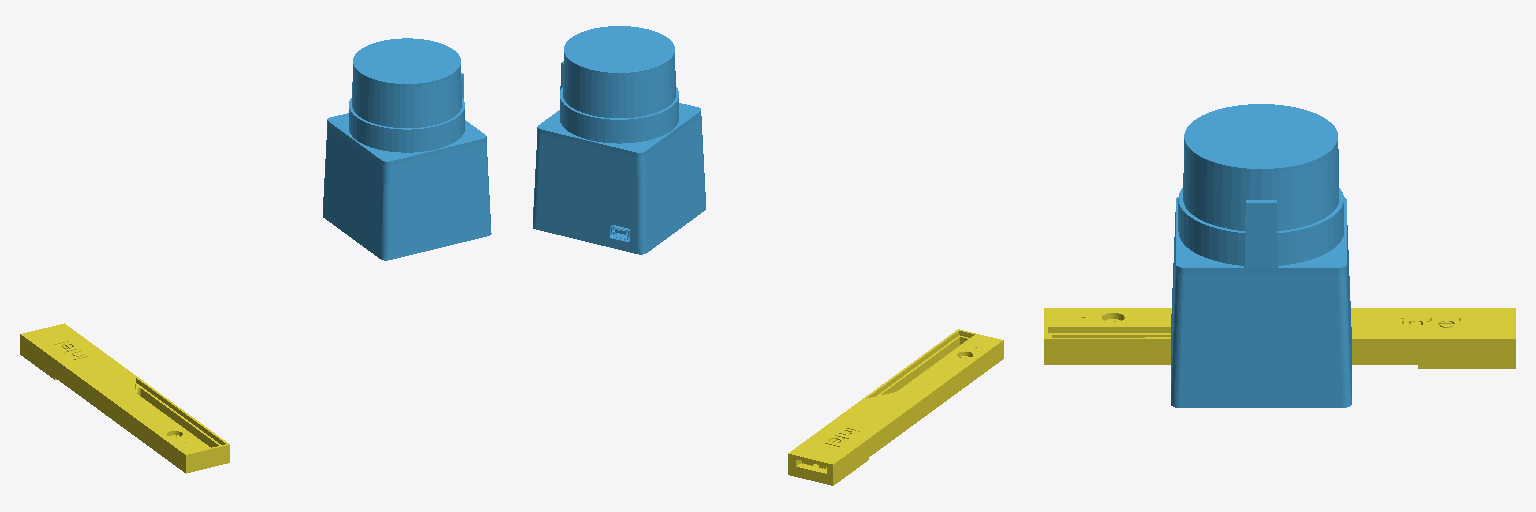
URDF robot description (intelaero):
<?xml version="1.0"?>
<robot name="intelaero">

  <link name="bintel">
    <visual>
      <origin rpy="0.0 0 0" xyz="0 0 0.008"/>
      <geometry>
        <mesh filename="package://bintel_ros/meshes/inteldrone_frame.stl" scale="0.001 0.001 0.001"/>
      </geometry>
    </visual>
  </link>
  
  
  <link name="laser">
	<visual>
      <origin rpy="1.5707  0 1.5707" xyz="0 -0.025 -0.04"/>
      <geometry>
        <mesh filename="package://bintel_ros/meshes/hokuyo_urg04lx.STL" scale="0.001 0.001 0.001"/>
      </geometry>     
    </visual>
  </link>
  
  <joint name="laser_to_bintel" type="fixed">
    <parent link="bintel"/>
    <child link="laser"/>
    <origin rpy="0 0 3.1415" xyz="0.03 0.0 0.07"/>
  </joint>
  
  
 <link name="base_link">
  </link>
  <joint name="bintel_to_base_link" type="fixed">
    <parent link="bintel"/>
    <child link="base_link"/>
    <origin rpy="0 0 0" xyz="0 0 0"/>
  </joint>
  
    <link name="camera_link">
	<visual>
      <origin rpy="1.5707 0 1.5707" xyz="0.0 -0.07 0.000"/>
      <geometry>
        <mesh filename="package://bintel_ros/meshes/r200.STL" scale="0.001 0.001 0.001"/>
      </geometry>
    </visual>
  </link>
  
  <link name="camera_rgb_optical_frame">
    </link>
  
    <joint name="camera_link_regis" type="fixed">
    <parent link="camera_link"/>
    <child link="camera_rgb_optical_frame"/>
    <origin rpy="0 0 0" xyz="0.0 0.0 0.0"/>
  </joint>
  
    <link name="camera_depth_optical_frame">
    </link>

    <joint name="camera_depth" type="fixed">
    <parent link="camera_link"/>
    <child link="camera_depth_optical_frame"/>
    <origin rpy="1.5707 0 0" xyz="0.0 0.0 0.0"/>
  </joint>

  <joint name="lidar_bintel" type="fixed">
    <parent link="bintel"/>
    <child link="camera_link"/>
    <origin rpy="0 1.5707 3.141592" xyz="-0.11 0.0 -0.014"/>
  </joint>
  
  
  
  <link name="engineUR">
  </link>
  <joint name="bintel_t0_engineUR" type="fixed">
    <parent link="bintel"/>
    <child link="engineUR"/>
    <origin rpy="0 0 3.1415" xyz="-0.128 0.128 0.02"/>
  </joint>
  
  <link name="engineUL">
  </link>
  <joint name="bintel_t0_engineUL" type="fixed">
    <parent link="bintel"/>
    <child link="engineUL"/>
    <origin rpy="0 0 3.1415" xyz="-0.128 -0.128 0.02"/>
  </joint>


 <link name="engineLR">
  </link>
  <joint name="bintel_t0_engineLR" type="fixed">
    <parent link="bintel"/>
    <child link="engineLR"/>
    <origin rpy="0 0 3.1415" xyz="0.128 0.128 0.02"/>
  </joint>
  
  <link name="engineLL">
  </link>
  <joint name="bintel_t0_engineLL" type="fixed">
    <parent link="bintel"/>
    <child link="engineLL"/>
    <origin rpy="0 0 3.1415" xyz="0.128 -0.128 0.02"/>
  </joint>

</robot>

--- Facts derived from the render (not from the file) ---
The picture shows the robot from 3 angles, left to right: view 1: azimuth 30°, elevation 25°; view 2: azimuth 150°, elevation 25°; view 3: azimuth 270°, elevation 25°; orthographic projection.
Robot: intelaero — 10 links, 9 joints (9 fixed); root link bintel; default pose: every joint at zero.
Links seen in each view (by area): view 1: laser, camera_link; view 2: laser, camera_link; view 3: laser, camera_link.
Boxes of the visible links, x1=… form: laser: x1=323, y1=38, x2=491, y2=260; camera_link: x1=20, y1=323, x2=229, y2=473; laser: x1=533, y1=26, x2=705, y2=254; camera_link: x1=788, y1=329, x2=1003, y2=485; laser: x1=1171, y1=104, x2=1351, y2=407; camera_link: x1=1044, y1=308, x2=1515, y2=368.
Size in the robot's own frame: 0.1599 by 0.13 by 0.1242 metres.
Meshes: 3 distinct files referenced, 2 mesh visuals loaded (2 binary STL); not drawn: 1 (reference not matched to a file when rendering).